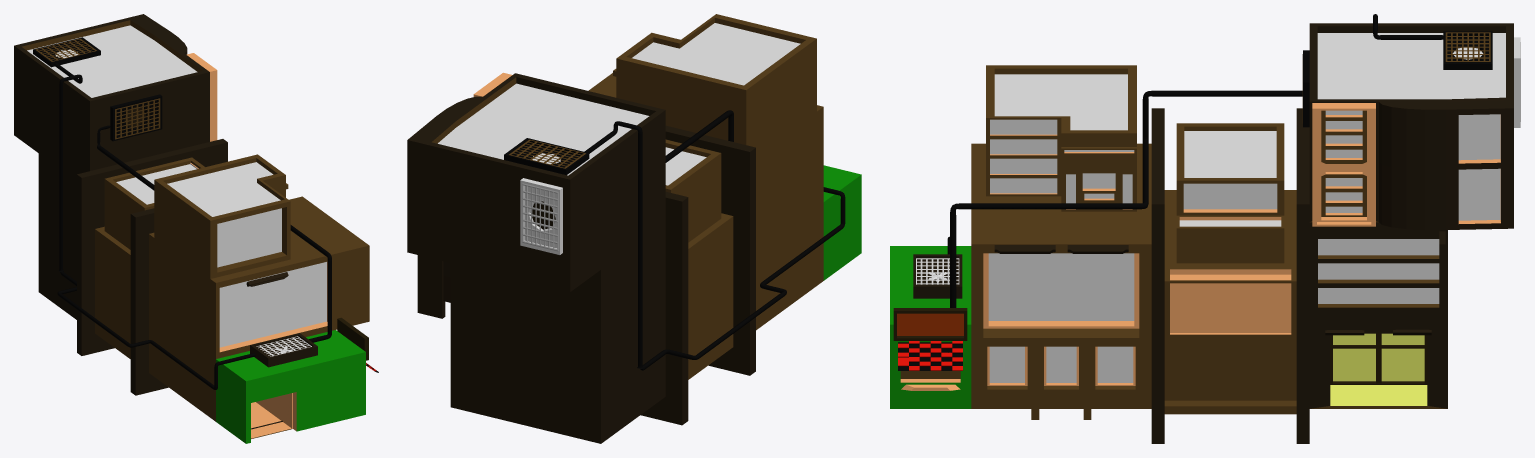
Rendered from CuberHorizont.fbx.
3 renders of one model, left to right at view 1: azimuth 30°, elevation 25°; view 2: azimuth 150°, elevation 25°; view 3: azimuth 270°, elevation 25°, orthographic. The views are drawn at different scales.
Visible parts, largest first — view 1: Plane.002, Plane.010, Cube, Cube.005, Plane.011, Cube.006, Cube.003, Cube.004, Plane.005, Cube.001; view 2: Plane.002, Plane.010, Cube.007, Plane.006, Cube.008, Cube.003, Cube.004, Plane.011; view 3: Plane.002, Plane.011, Plane.005, Plane.004, Cube, Cube.003, Cube.004, Cube.001, Plane.006, Cube.007.
Part boxes in pixels (<box>): Plane.002: <box>14,14,369,443</box>; Plane.010: <box>54,63,255,389</box>; Cube: <box>250,333,317,367</box>; Cube.005: <box>110,94,162,141</box>; Plane.011: <box>97,125,331,342</box>; Cube.006: <box>115,98,160,139</box>; Cube.003: <box>33,37,100,67</box>; Cube.004: <box>35,38,96,61</box>; Plane.005: <box>337,317,368,360</box>; Cube.001: <box>256,336,311,356</box>; Plane.002: <box>407,14,861,443</box>; Plane.010: <box>584,121,845,370</box>; Cube.007: <box>520,178,562,254</box>; Plane.006: <box>417,255,450,318</box>; Cube.008: <box>522,183,558,251</box>; Cube.003: <box>504,138,589,175</box>; Cube.004: <box>509,139,585,168</box>; Plane.011: <box>665,110,733,162</box>; Plane.002: <box>890,23,1513,443</box>; Plane.011: <box>950,90,1302,307</box>; Plane.005: <box>893,308,967,340</box>; Plane.004: <box>898,341,962,370</box>; Cube: <box>913,254,962,298</box>; Cube.003: <box>1443,31,1492,69</box>; Cube.004: <box>1445,32,1490,61</box>; Cube.001: <box>916,258,959,284</box>; Plane.006: <box>1439,231,1445,335</box>; Cube.007: <box>1514,37,1520,127</box>.
Bounding box in the file's own units: 863 × 1124 × 1883.
